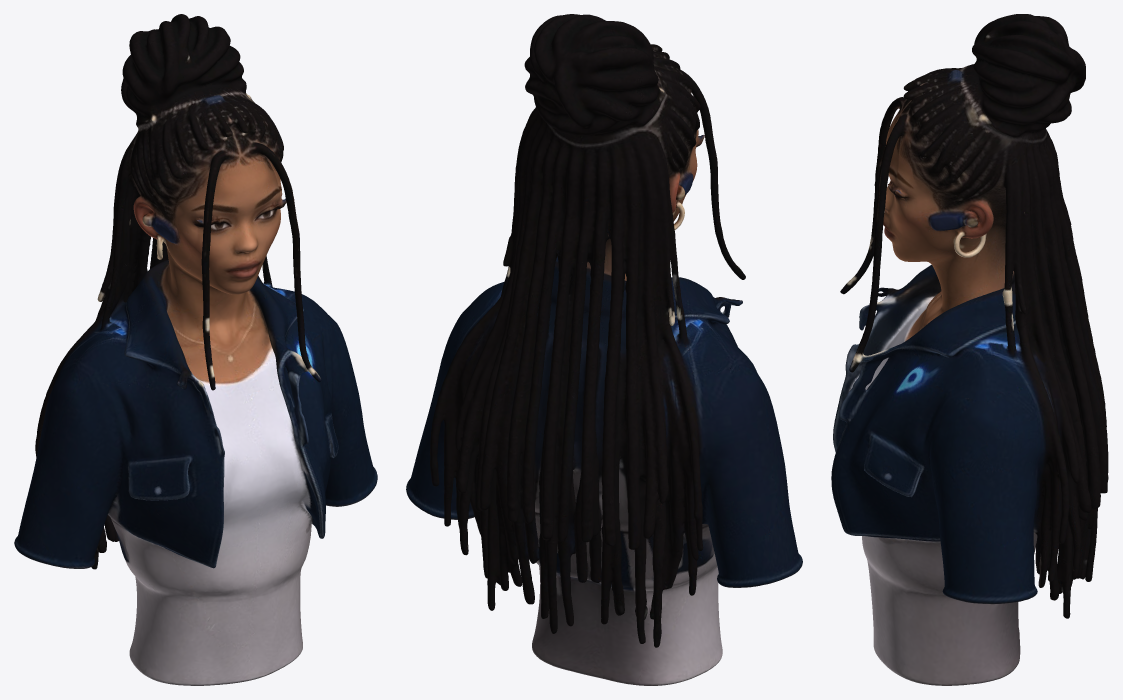
File: navi_bust_original_uv.glb
3 views of the same model, side by side, from view 1: azimuth 30°, elevation 25°; view 2: azimuth 150°, elevation 25°; view 3: azimuth 270°, elevation 25° (orthographic). The views are drawn at different scales.
Parts seen in each view (by area): view 1: Navi_Unrigged_Bust; view 2: Navi_Unrigged_Bust; view 3: Navi_Unrigged_Bust.
Part boxes in pixels (<box>): Navi_Unrigged_Bust: <box>14,14,377,685</box>; Navi_Unrigged_Bust: <box>406,14,802,685</box>; Navi_Unrigged_Bust: <box>831,14,1108,685</box>.
Size of the model in its own units: 1.15 by 1.9 by 0.758.
Materials: 1 (1 with a texture image).
